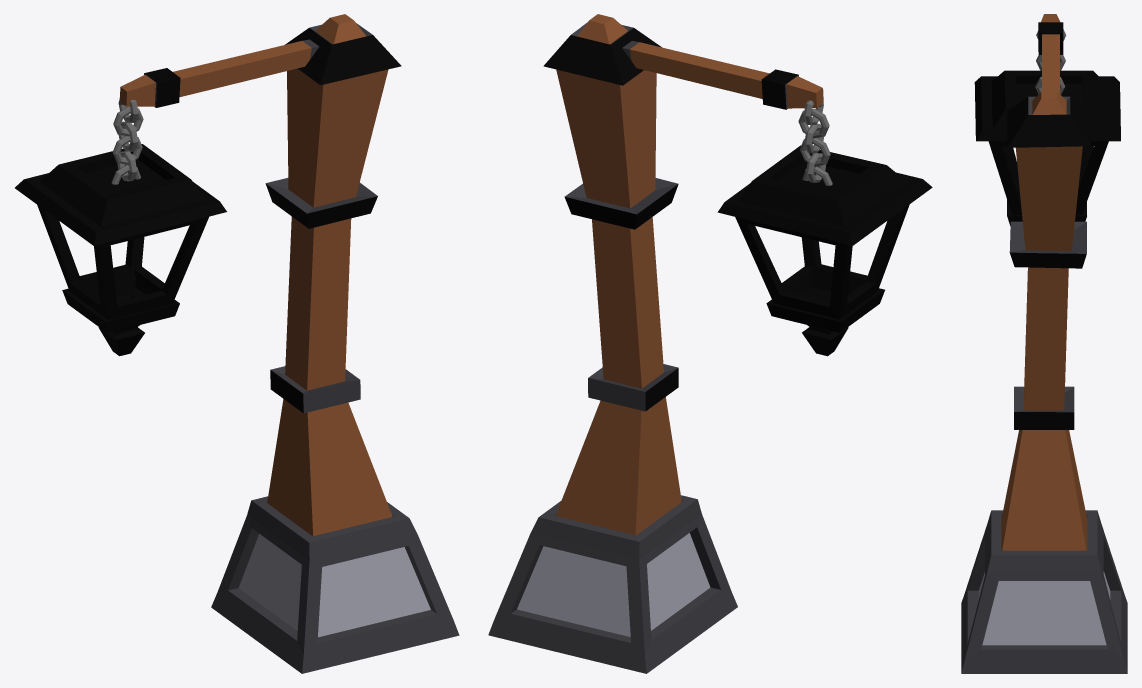
File: lantern.fbx
3 renders of one model, left to right at view 1: azimuth 30°, elevation 25°; view 2: azimuth 150°, elevation 25°; view 3: azimuth 270°, elevation 25°, orthographic. The views are drawn at different scales.
Visible parts, largest first — view 1: Cube.003; view 2: Cube.003; view 3: Cube.003.
Part boxes in pixels (box(x1,y1,x2,y2)): Cube.003: box(15, 14, 459, 673); Cube.003: box(488, 14, 932, 673); Cube.003: box(961, 14, 1127, 673).
Size of the model in its own units: 185 by 296 by 81.48.
